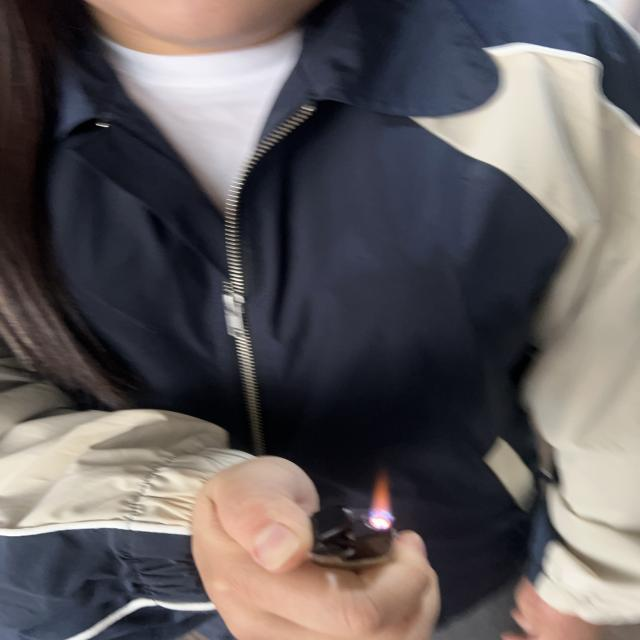fire: (367, 472, 395, 530)
